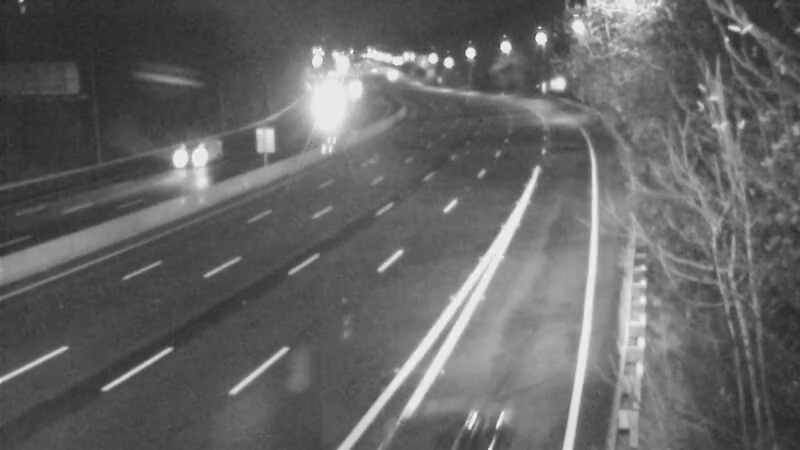vehicle: (147, 116, 227, 196), (362, 48, 412, 98), (299, 94, 349, 144)
